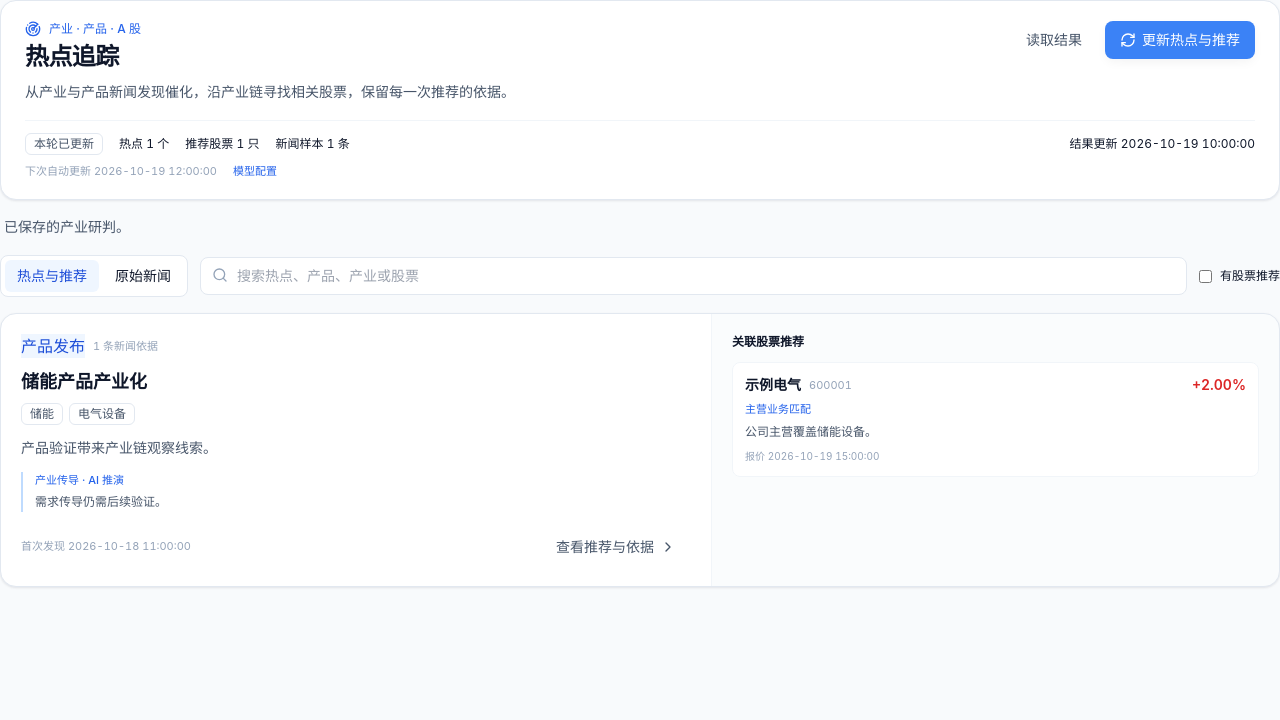
HotspotPage snapshot and evidence workflow › shows company evidence and separate quote times, and retries a failed watchlist addition
Click the button "查看推荐与依据".
click(616, 546)  # box [541,528,691,566]
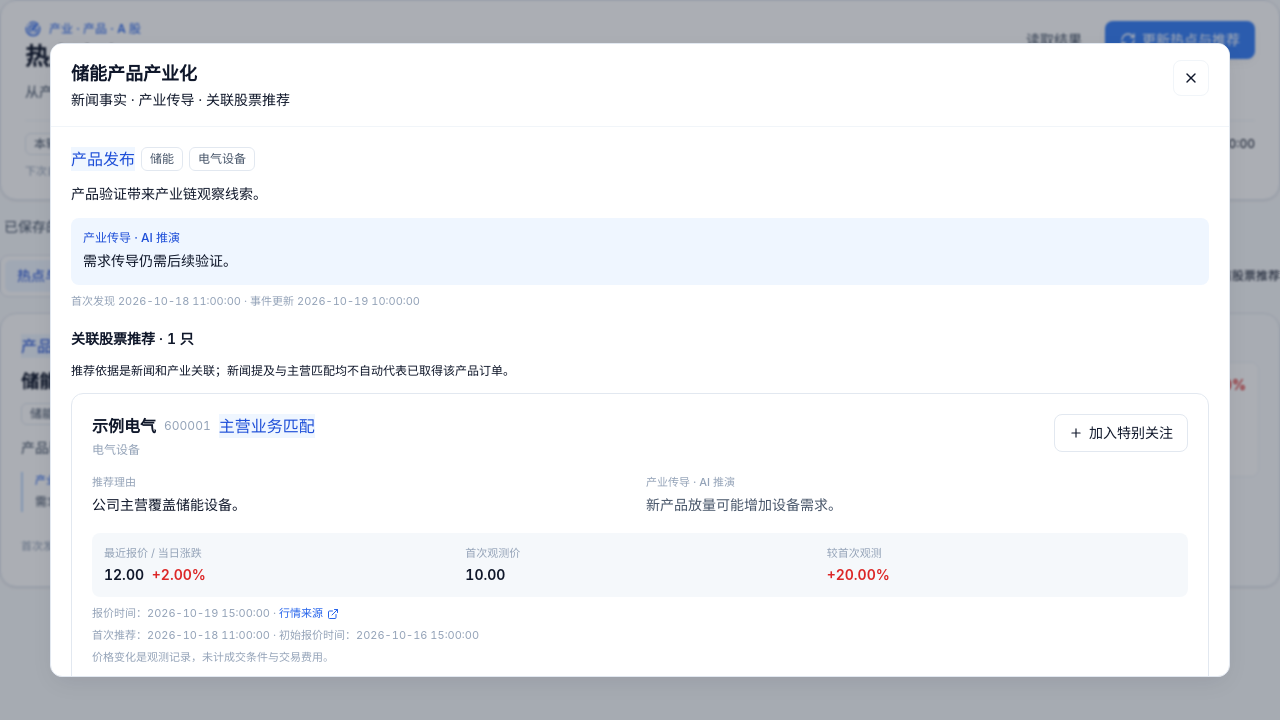
Now the dialog shows "公司主营覆盖储能设备。", box [92,496,246,513]
Now the dialog shows "2026-10-19 15:00:00", box [147,606,270,620]
Now the dialog shows "2026-10-16 15:00:00", box [356,628,479,642]
Click the button "加入特别关注".
click(1121, 433)  # box [1054,414,1188,452]
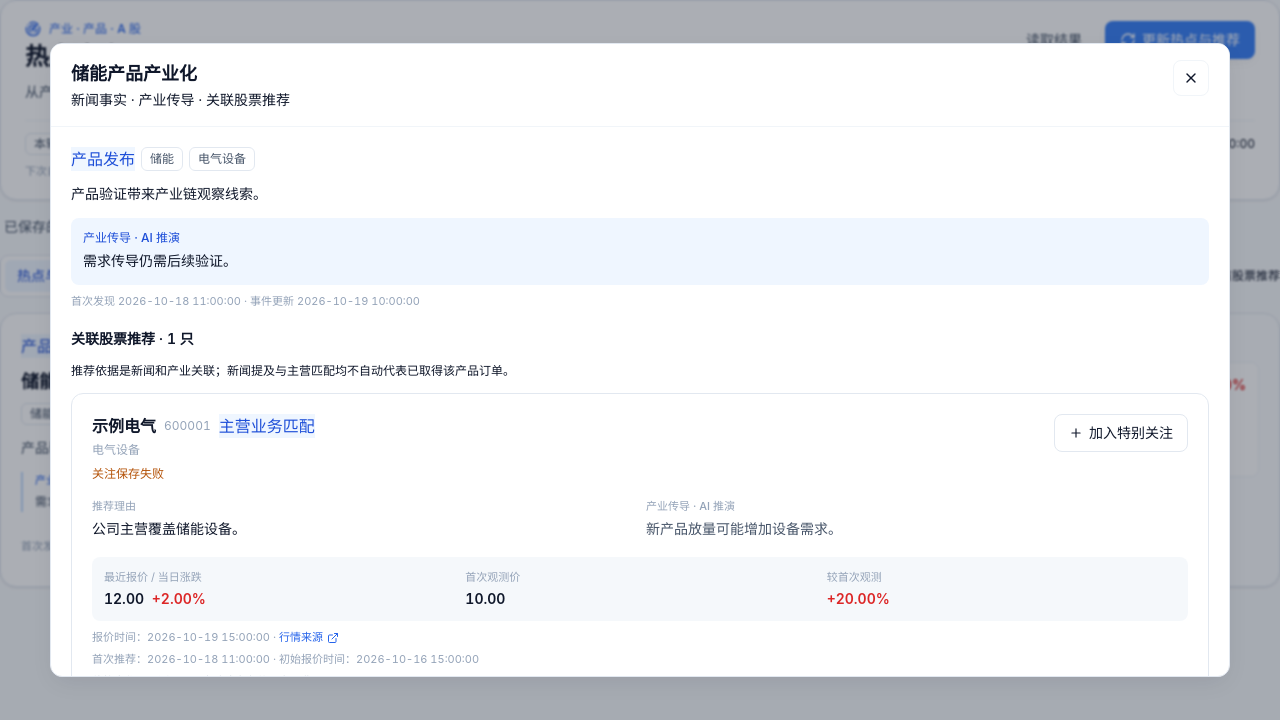
Now the button "加入特别关注" is shown
Now the message "关注保存失败" is shown, box [92,466,164,481]
Click the button "加入特别关注".
click(1121, 433)  # box [1054,414,1188,452]
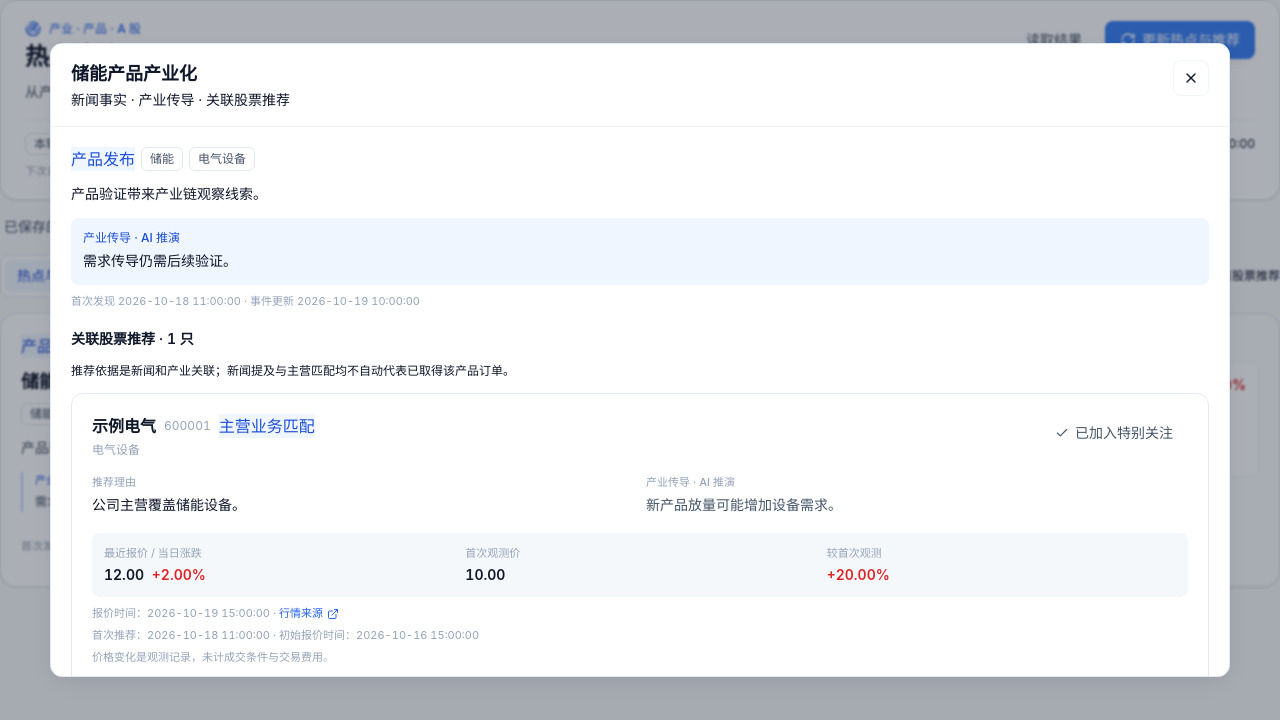
Now the button named "关闭详情" is shown
Now the button "已加入特别关注" is disabled, box [1040,414,1188,452]
Now the message "关注保存失败" is gone
Click the button named "关闭详情".
click(1191, 78)  # box [1173,60,1209,96]
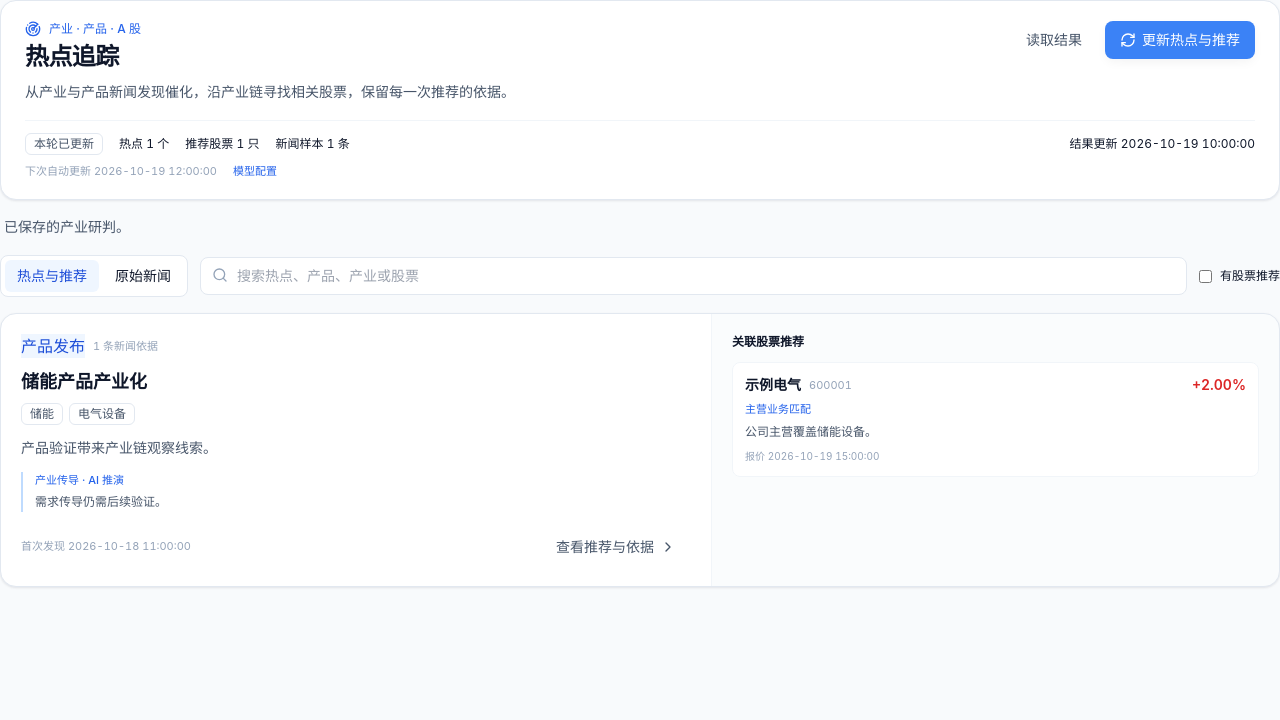
Now the dialog is gone
